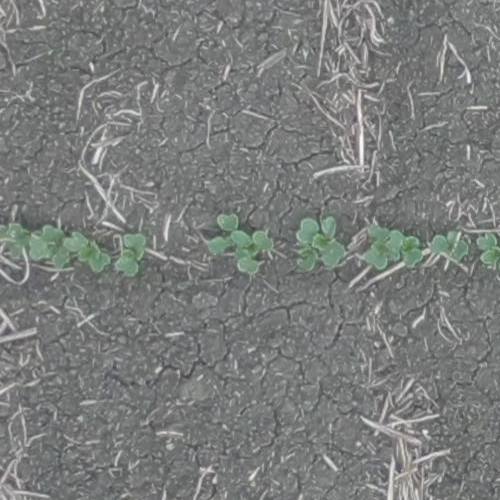clumped: (0, 222, 111, 273), (209, 214, 269, 275), (363, 225, 421, 272), (476, 219, 499, 277)
isolated: (297, 215, 346, 270), (429, 228, 466, 262), (115, 234, 144, 275)
